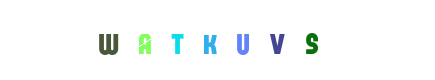A: (113, 0, 193, 80)
K: (178, 0, 258, 80)
S: (272, 0, 352, 80)
T: (155, 0, 235, 80)
U: (201, 0, 281, 80)
V: (237, 0, 317, 80)
W: (83, 0, 163, 80)
